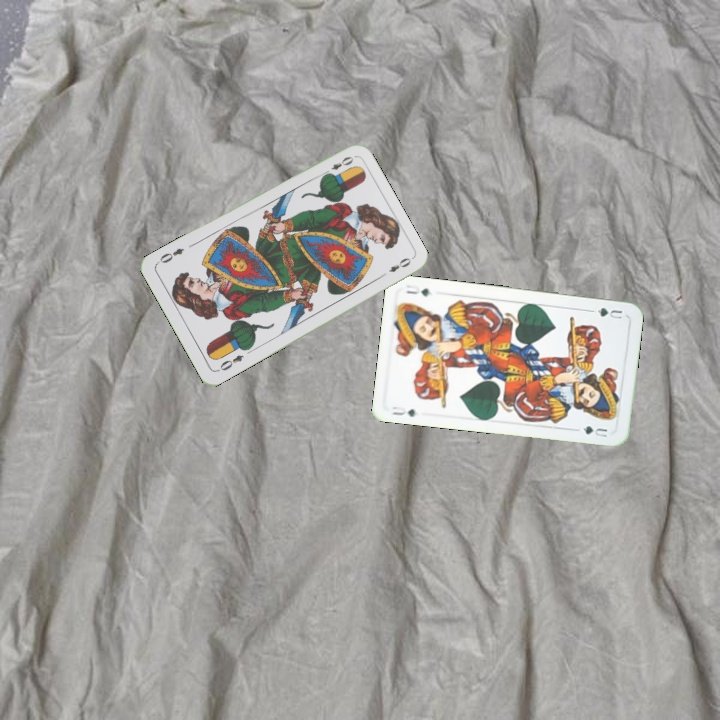EO: (319, 152, 356, 178), (213, 351, 246, 374)
GU: (587, 304, 625, 321), (389, 402, 418, 419)
